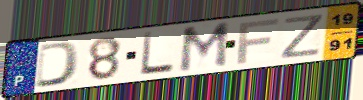8: (87, 36, 123, 81)
D: (33, 40, 82, 90)
F: (236, 17, 281, 65)
L: (138, 30, 177, 78)
M: (177, 20, 232, 75)
Z: (278, 12, 327, 61)
